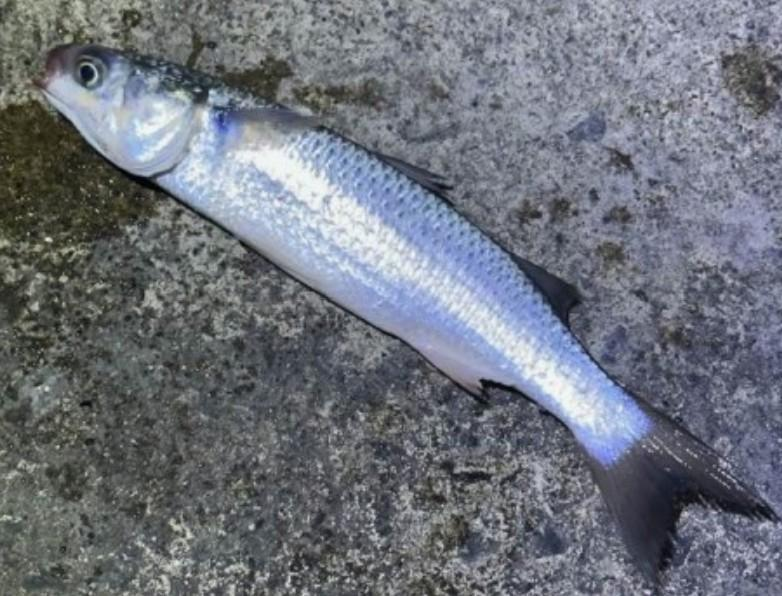fish: (36, 43, 775, 582)
